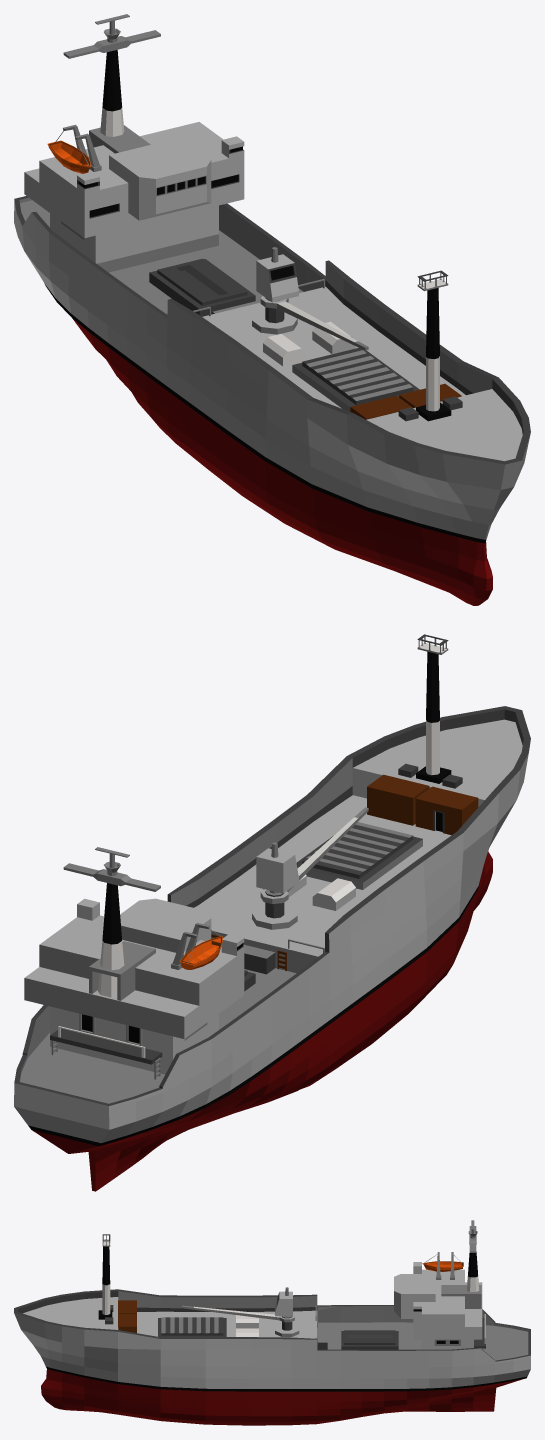
The model's file is freighter.glb.
3 renders of one model, top to bottom at view 1: azimuth 30°, elevation 25°; view 2: azimuth 150°, elevation 25°; view 3: azimuth 270°, elevation 25°, orthographic. The views are drawn at different scales.
Visible parts, largest first — view 1: big_ship_2; view 2: big_ship_2; view 3: big_ship_2.
Part boxes in pixels (<box>): big_ship_2: <box>14,14,530,605</box>; big_ship_2: <box>14,634,530,1191</box>; big_ship_2: <box>14,1220,530,1425</box>.
Size of the model in its own units: 2.75 by 5.19 by 13.07.
1 material, 1 textured.
